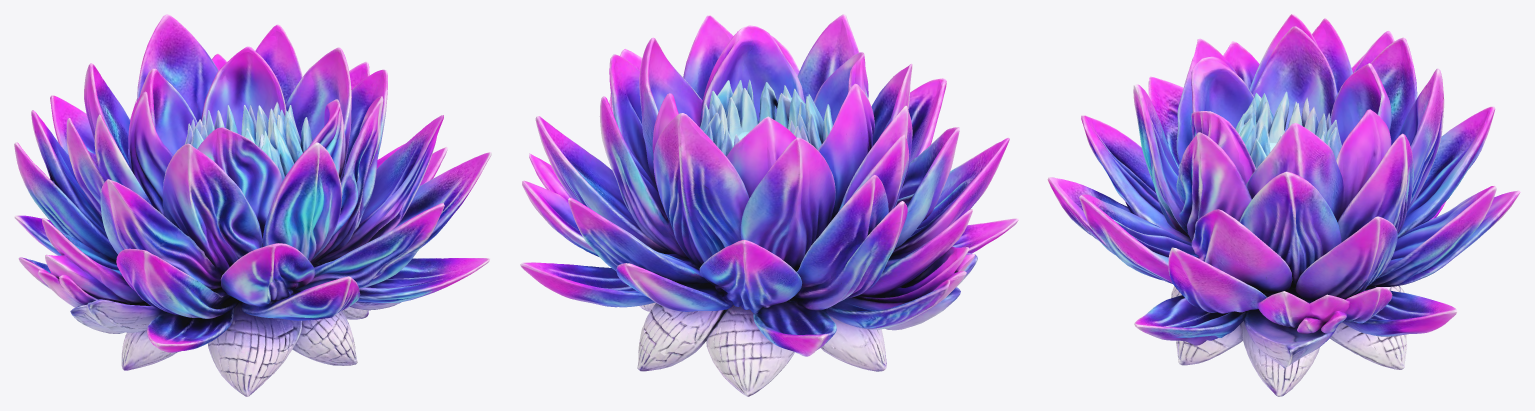
Rendered from lotus-shaded-mobile.glb.
The picture shows the model from 3 angles, left to right: view 1: azimuth 30°, elevation 25°; view 2: azimuth 150°, elevation 25°; view 3: azimuth 270°, elevation 25°; orthographic projection. The views are drawn at different scales.
Visible parts, largest first — view 1: model; view 2: model; view 3: model.
Part boxes in pixels (x1,y1,x2,y2): model: (14,14,491,396); model: (520,14,1018,396); model: (1047,14,1520,396).
Bounding box in the file's own units: 1.86 × 1.21 × 1.9.
1 material, 1 textured.
